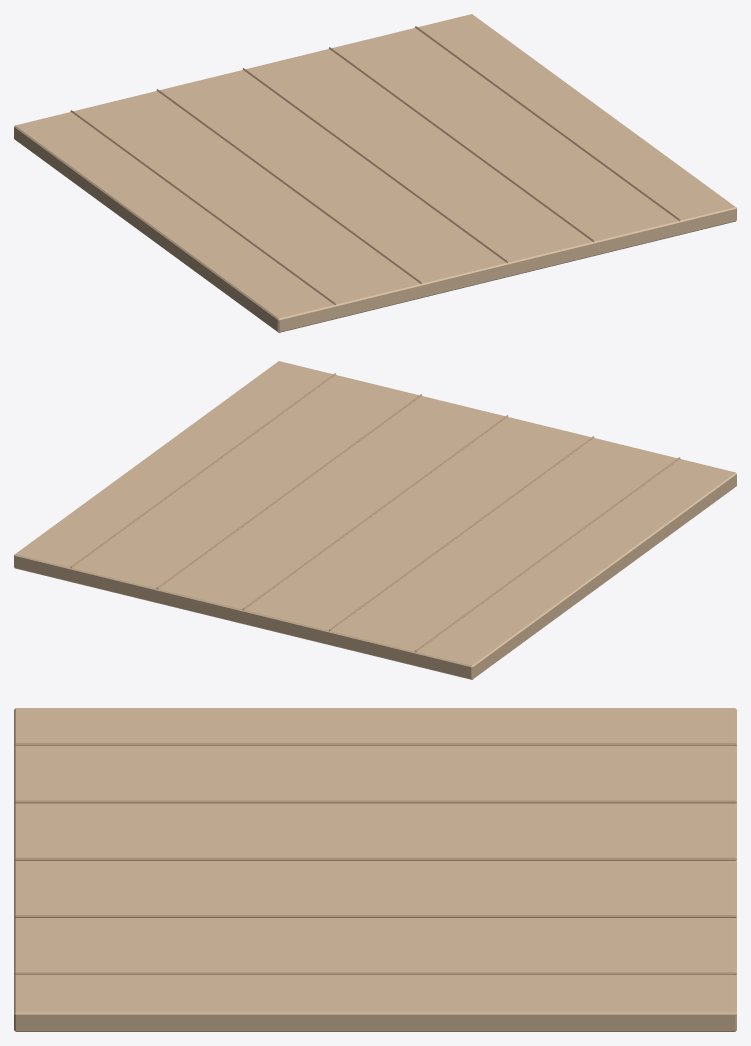
Rendered from SM_Floor_4x4.fbx.
3 renders of one model, top to bottom at view 1: azimuth 30°, elevation 25°; view 2: azimuth 150°, elevation 25°; view 3: azimuth 270°, elevation 25°, orthographic. The views are drawn at different scales.
Visible parts, largest first — view 1: Floor_4x4; view 2: Floor_4x4; view 3: Floor_4x4.
Boxes of the visible parts, <box> form: Floor_4x4: <box>14,14,736,332</box>; Floor_4x4: <box>14,361,736,679</box>; Floor_4x4: <box>14,708,736,1031</box>.
Size of the model in its own units: 400 by 13.5 by 400.
